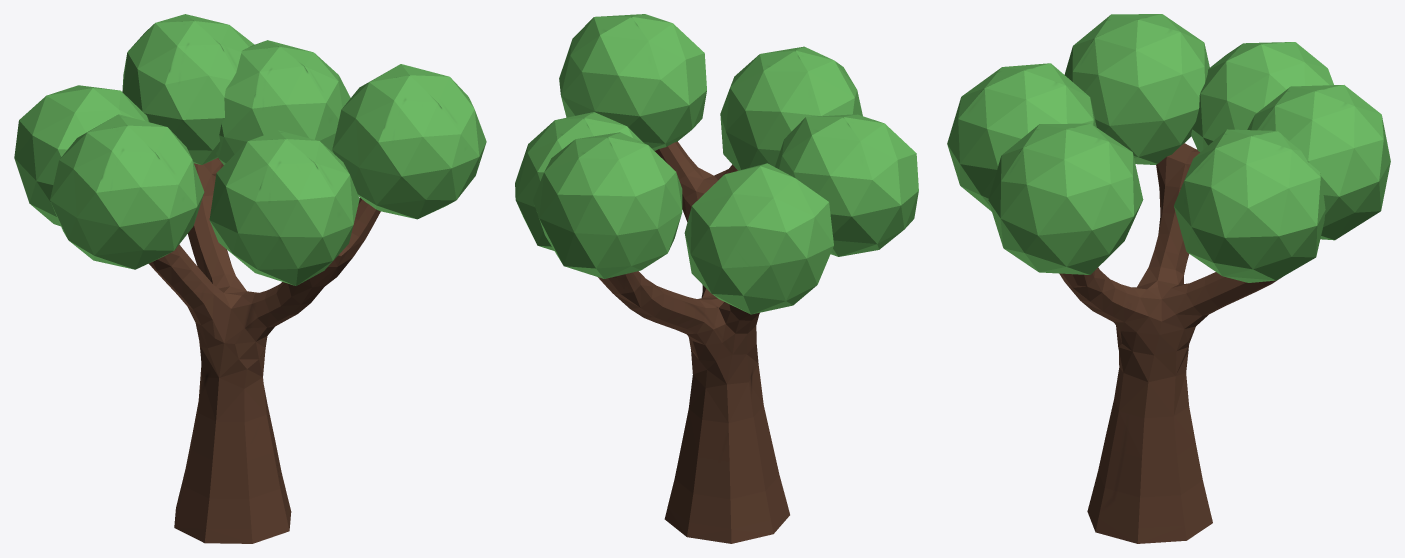
File: wood.obj
3 views of the same model, side by side, from view 1: azimuth 30°, elevation 25°; view 2: azimuth 150°, elevation 25°; view 3: azimuth 270°, elevation 25° (orthographic). The views are drawn at different scales.
Parts seen in each view (by area): view 1: 平面_平面.001; view 2: 平面_平面.001; view 3: 平面_平面.001.
Boxes of the visible parts, x1,y1,x2,y2 form: 平面_平面.001: [14, 14, 486, 543]; 平面_平面.001: [515, 14, 918, 543]; 平面_平面.001: [947, 14, 1390, 543].
Size of the model in its own units: 3.5 by 3.94 by 3.43.
Materials: 1 (1 with a texture image).
